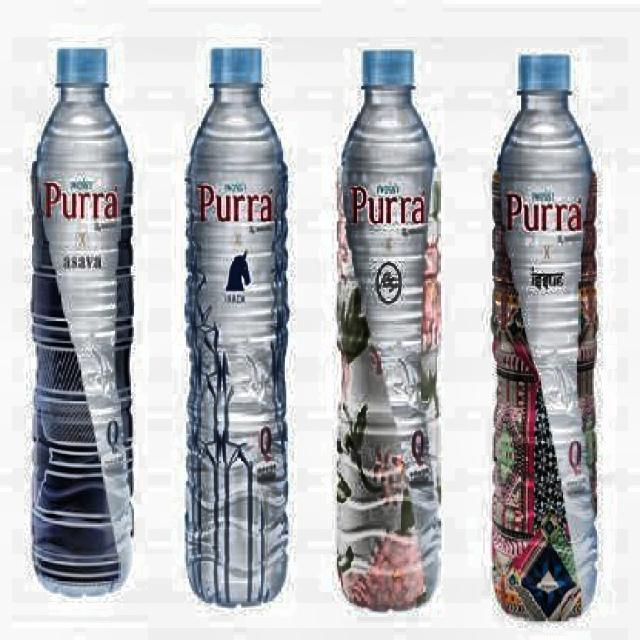Bottles: (475, 30, 617, 640), (323, 41, 458, 614), (173, 32, 303, 614), (20, 35, 149, 608)
